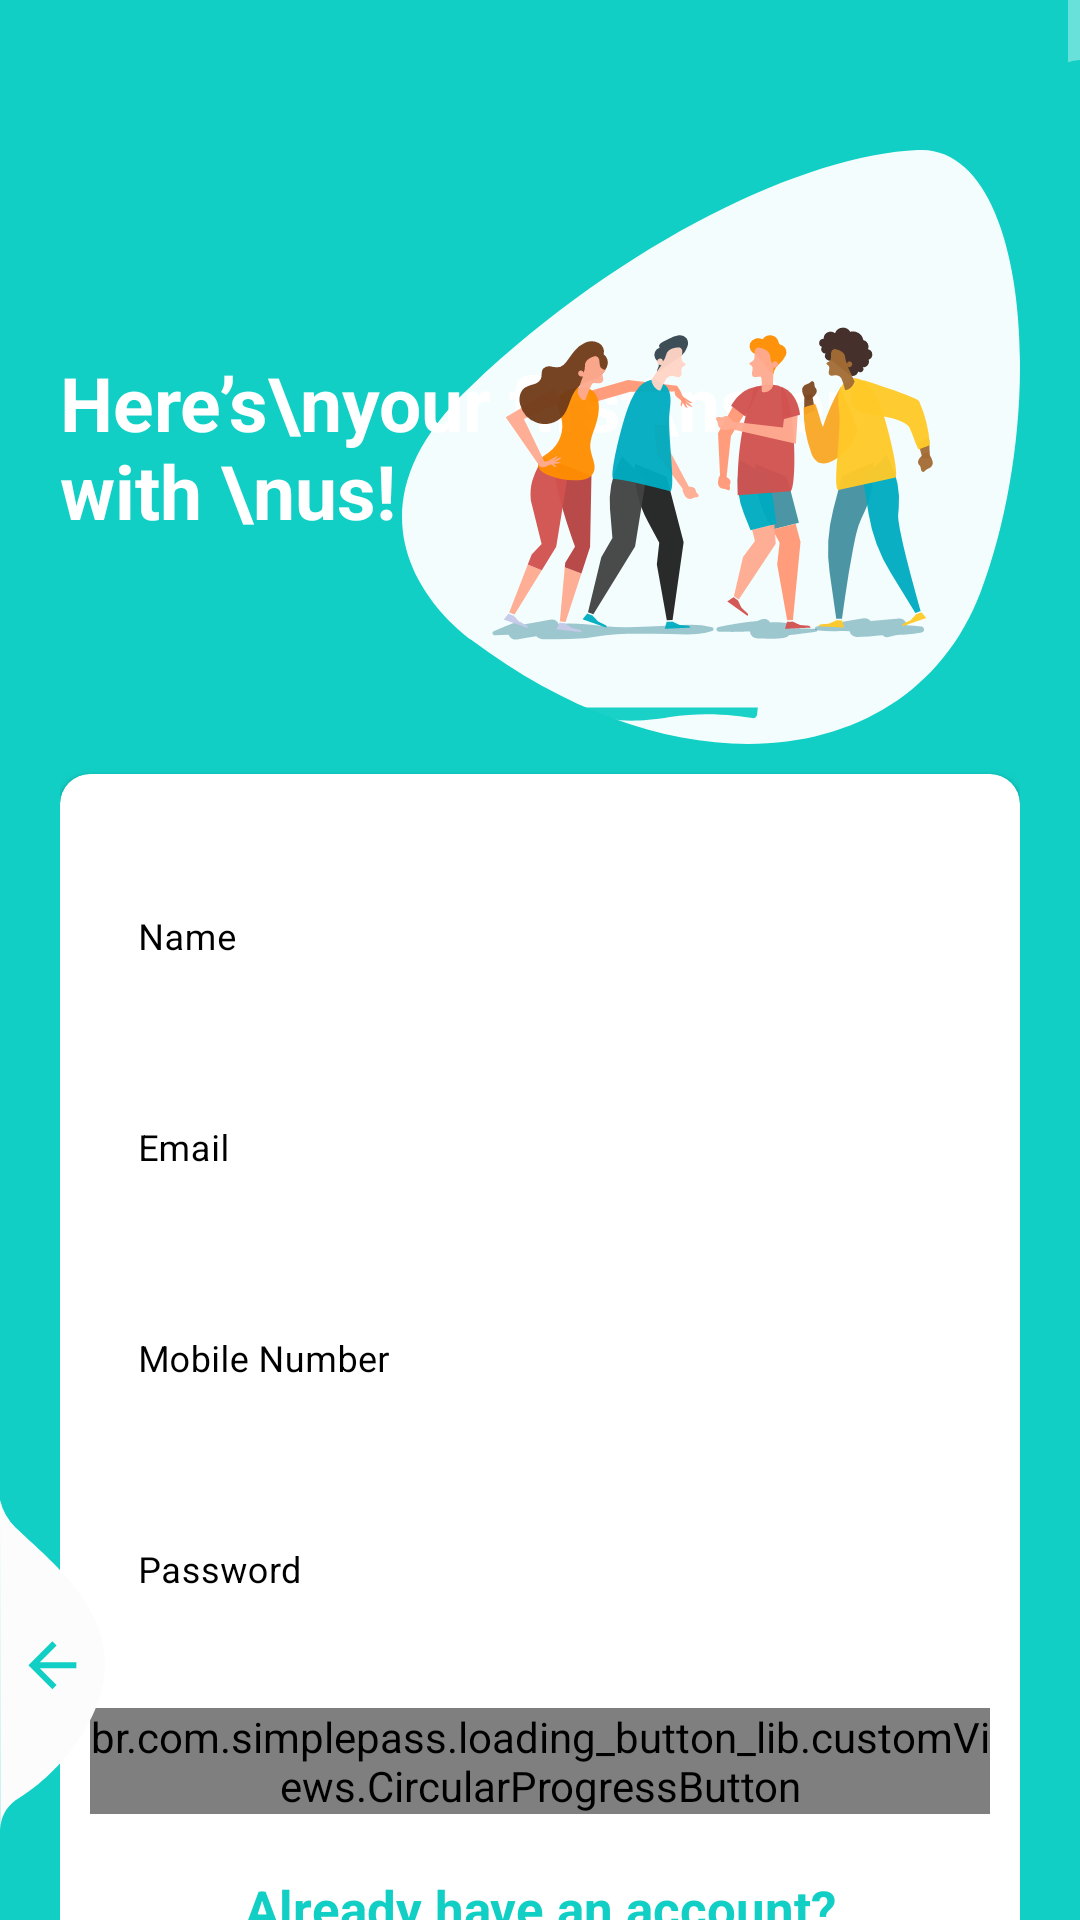

Where to tap for icons on this 1080*1920 app screen, as (x,y):
back: (52,1665)
